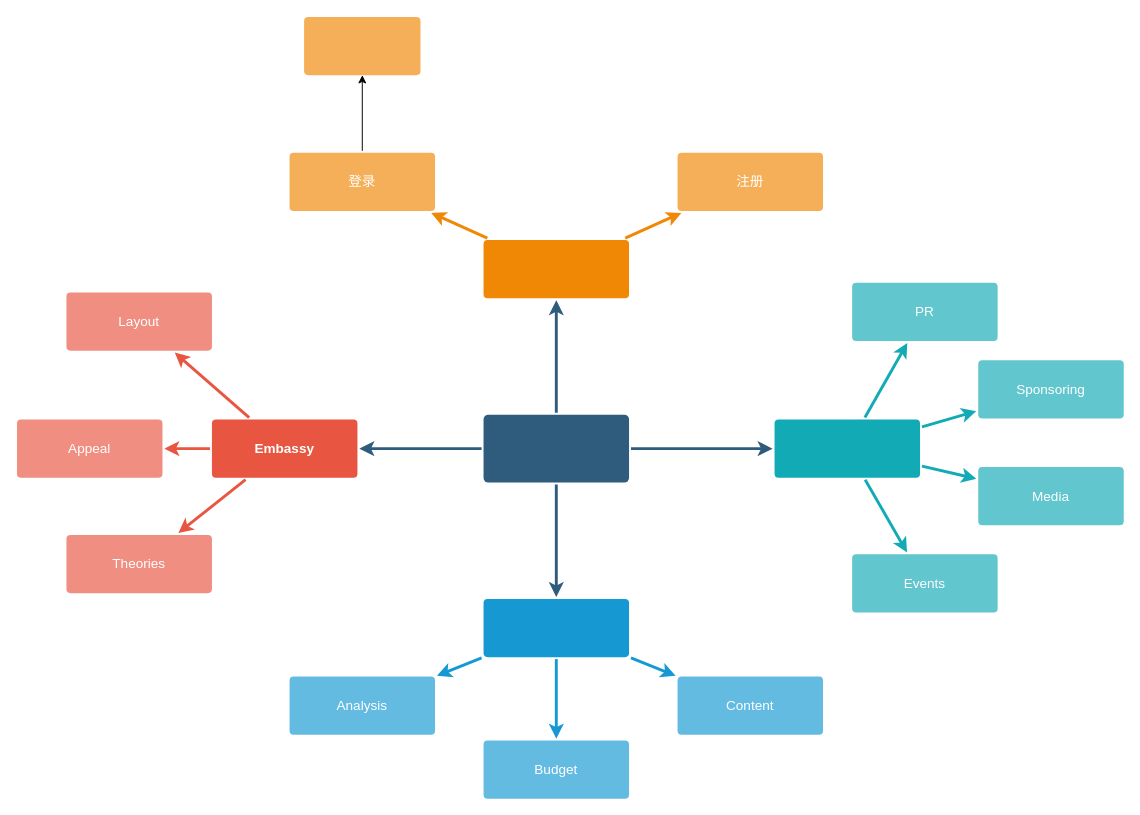
This 1140x815 diagram has some shape labels left out. Here are the shapes that lost their labels. From the top down, the centre of each, then its label:
the point at 556,269: 登录系统
the point at 556,448: 管理员
the point at 847,448: Communication
the point at 556,627: Organization
